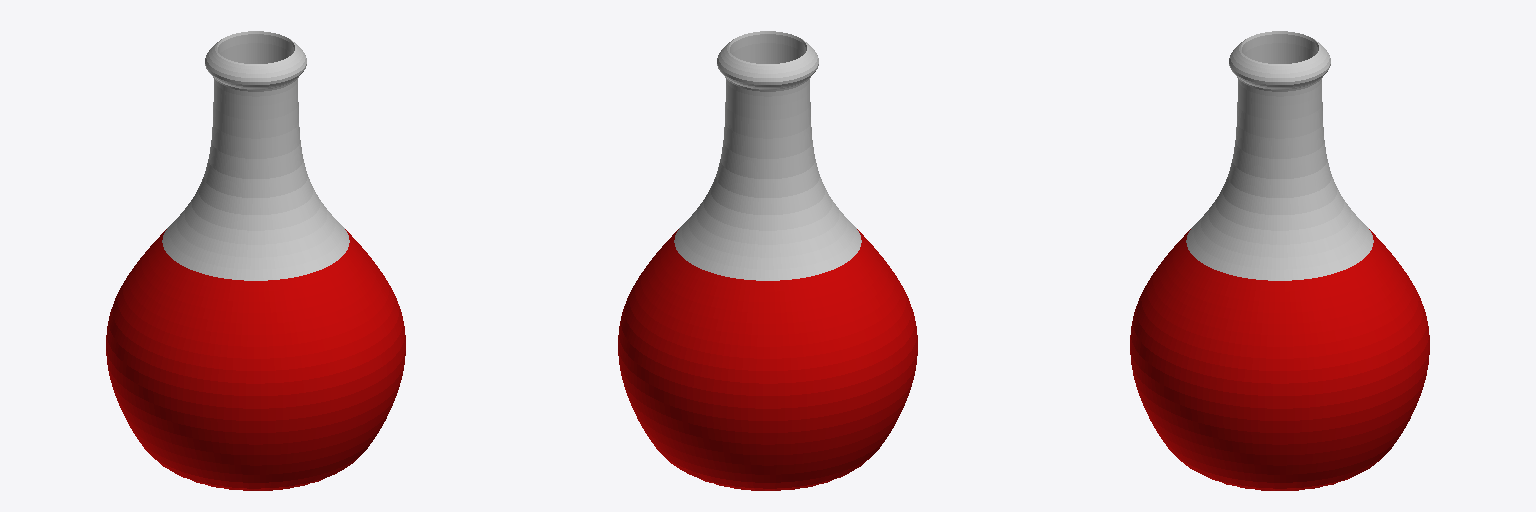
The model's file is Bottle.obj.
3 renders of one model, left to right at view 1: azimuth 30°, elevation 25°; view 2: azimuth 150°, elevation 25°; view 3: azimuth 270°, elevation 25°, orthographic.
Visible parts, largest first — view 1: Circle; view 2: Circle; view 3: Circle.
Part boxes in pixels (bbox=[...]): Circle: bbox=[106, 31, 405, 490]; Circle: bbox=[618, 31, 917, 490]; Circle: bbox=[1130, 31, 1429, 490].
Bounding box in the file's own units: 3.21 × 4.91 × 3.21.